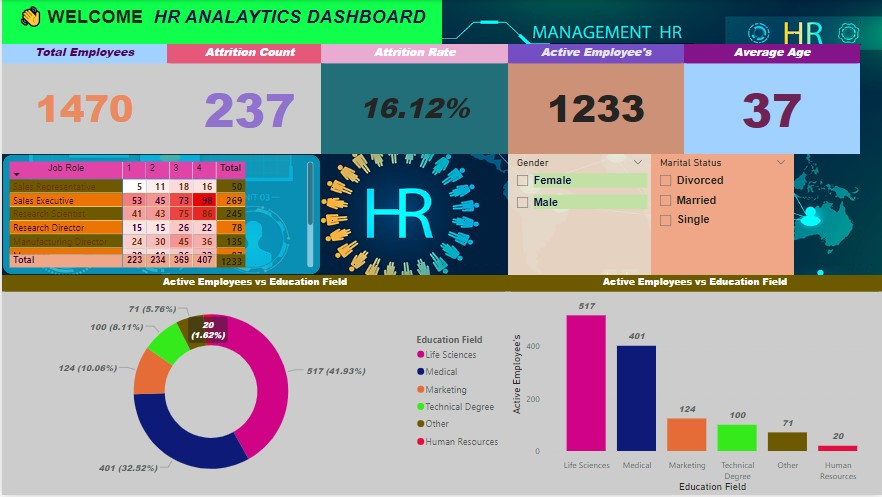

Layout of this report page (visuals, bound fields, positions):
{"tool":"powerbi","page":{"name":"Active Employees vs Education","canvas":[1280,720],"ordinal":1},"visuals":[{"type":"card","title":"Total Employees","fields":{"Values":["Sum(HR data.Employee Count)"]},"box":[0,64,240,160],"z":0},{"type":"card","title":"Attrition Count","fields":{"Values":["Sum(HR data.Attrition Count)"]},"box":[240,64,240,160],"z":1000},{"type":"card","title":"Attrition Rate","fields":{"Values":["HR data.Attrition Rate"]},"box":[464,64,272,160],"z":2000},{"type":"card","title":"Active Employee''s","fields":{"Values":["HR data.Active Employee's"]},"box":[736,64,256,160],"z":3000},{"type":"card","title":"Average Age","fields":{"Values":["Avg(HR data.Age)"]},"box":[992,64,256,160],"z":4000},{"type":"donutChart","title":"Active Employees vs Education Field","fields":{"Category":["HR data.Education Field"],"Y":["HR data.Active Employee's"]},"box":[0,400,736,320],"z":5000},{"type":"slicer","fields":{"Values":["HR data.Gender"]},"box":[736,224,208,176],"z":6000},{"type":"slicer","fields":{"Values":["HR data.Marital Status"]},"box":[944,224,208,176],"z":7000},{"type":"pivotTable","fields":{"Rows":["HR data.Job Role"],"Columns":["HR data.Job Satisfaction"],"Values":["HR data.Active Employee's"]},"box":[0,224,464,176],"z":8000},{"type":"textbox","box":[0,0,640,64],"z":9000},{"type":"columnChart","title":"Active Employees vs Education Field","fields":{"Category":["HR data.Education Field"],"Y":["HR data.Active Employee's"]},"box":[736,400,544,320],"z":10000}]}

Visuals, with their boxes in screenshot pixels (x1, y1, x2, y2), scaled from the page's 1280x720 canvas onto the 882x497 screenshot:
"Total Employees" card: bbox=(0, 44, 165, 155)
"Attrition Count" card: bbox=(165, 44, 331, 155)
"Attrition Rate" card: bbox=(320, 44, 507, 155)
"Active Employee''s" card: bbox=(507, 44, 684, 155)
"Average Age" card: bbox=(684, 44, 860, 155)
"Active Employees vs Education Field" donutChart: bbox=(0, 276, 507, 496)
slicer - HR data.Gender: bbox=(507, 155, 650, 276)
slicer - HR data.Marital Status: bbox=(650, 155, 794, 276)
pivotTable - HR data.Job Role x HR data.Job Satisfaction: bbox=(0, 155, 320, 276)
textbox: bbox=(0, 0, 441, 44)
"Active Employees vs Education Field" columnChart: bbox=(507, 276, 881, 496)
